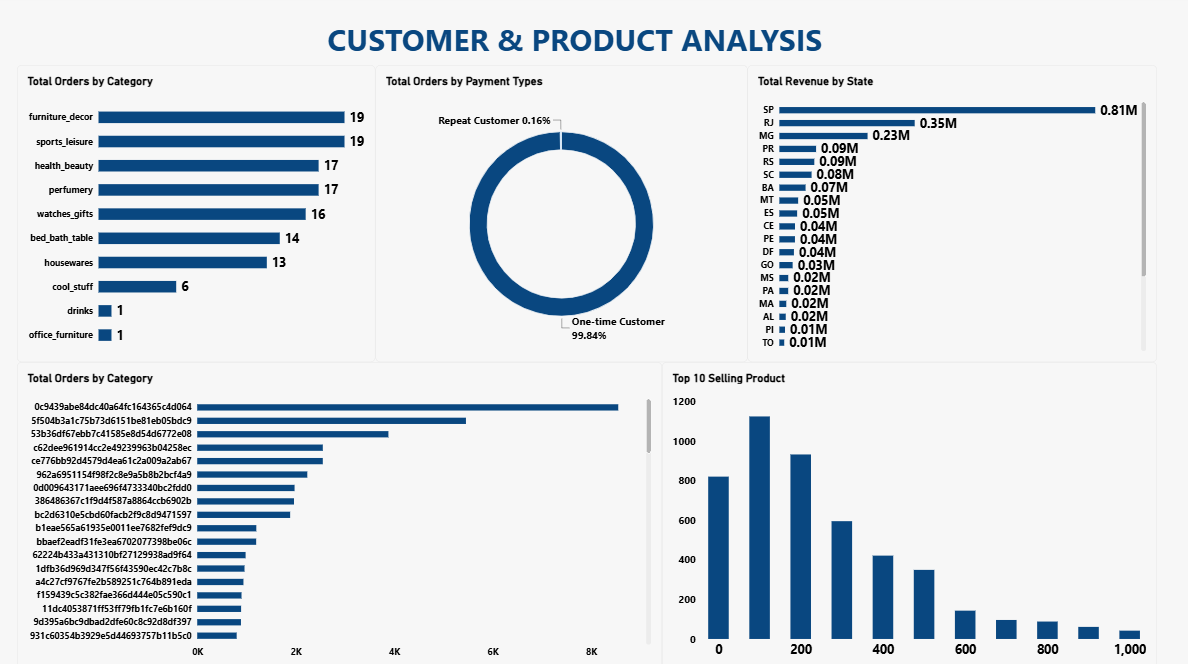

Layout of this report page (visuals, bound fields, positions):
{"tool":"powerbi","page":{"name":"CUSTOMER & PRODUCT ANALYSIS","canvas":[1920,1080],"ordinal":1},"visuals":[{"type":"clusteredBarChart","title":"Total Orders by Category","fields":{"Category":["vw_order_items_enriched.product_category_english"],"Y":["vw_order_summary.Total Orders"]},"box":[33.4,114.5,570.2,472.4],"z":0},{"type":"clusteredBarChart","title":"Total Orders by Category","fields":{"Category":["vw_order_items_enriched.product_id"],"Y":["vw_order_summary.Total Revenue"]},"box":[33.4,586.9,1025.9,493.9],"z":1000},{"type":"donutChart","title":"Total Orders by Payment Types","fields":{"Category":["vw_order_summary.Customer Type"],"Y":["vw_order_summary.Total Customers"]},"box":[603.6,114.5,591.7,472.4],"z":2000},{"type":"clusteredColumnChart","title":"Top 10 Selling Product","fields":{"Category":["vw_order_summary.product_revenue (bins)"],"Y":["vw_order_summary.Total Customers"]},"box":[1059.3,586.9,787.4,493.9],"z":3000},{"type":"clusteredBarChart","title":"Total Revenue by State","fields":{"Category":["vw_order_summary.customer_state"],"Y":["vw_order_summary.Total Revenue"]},"box":[1195.3,114.5,651.4,472.4],"z":4000},{"type":"textbox","box":[527.3,40.6,804.1,74],"z":5000}]}

Visuals, with their boxes in screenshot pixels (x1, y1, x2, y2), scaled from the page's 1920x1080 canvas onto the 1188x664 screenshot:
"Total Orders by Category" clusteredBarChart: select_region(21, 70, 373, 361)
"Total Orders by Category" clusteredBarChart: select_region(21, 361, 655, 663)
"Total Orders by Payment Types" donutChart: select_region(373, 70, 740, 361)
"Top 10 Selling Product" clusteredColumnChart: select_region(655, 361, 1143, 663)
"Total Revenue by State" clusteredBarChart: select_region(740, 70, 1143, 361)
textbox: select_region(326, 25, 824, 70)
